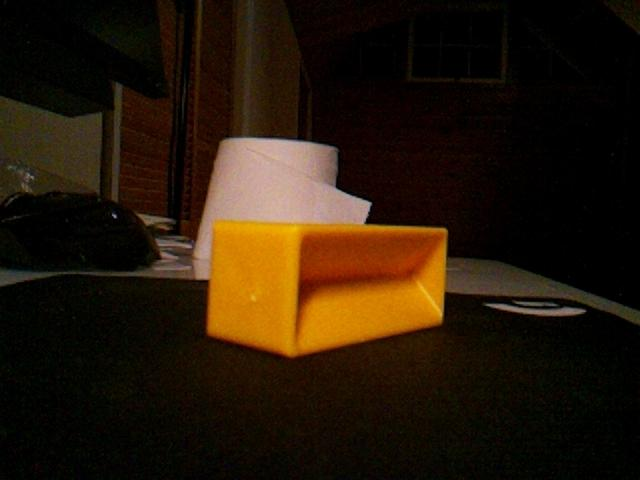yellow: (205, 218, 449, 359)
